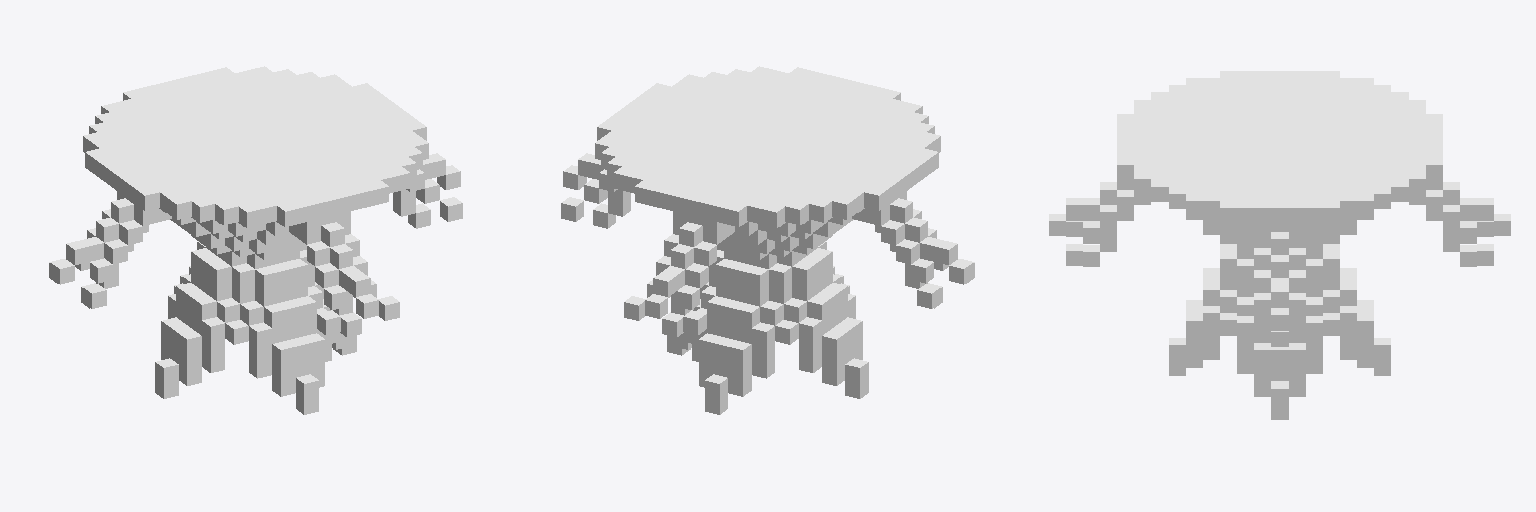
The model's file is PlayerRocketDown.obj.
3 renders of one model, left to right at view 1: azimuth 30°, elevation 25°; view 2: azimuth 150°, elevation 25°; view 3: azimuth 270°, elevation 25°, orthographic.
Bounding box in the file's own units: 27 × 15 × 27.